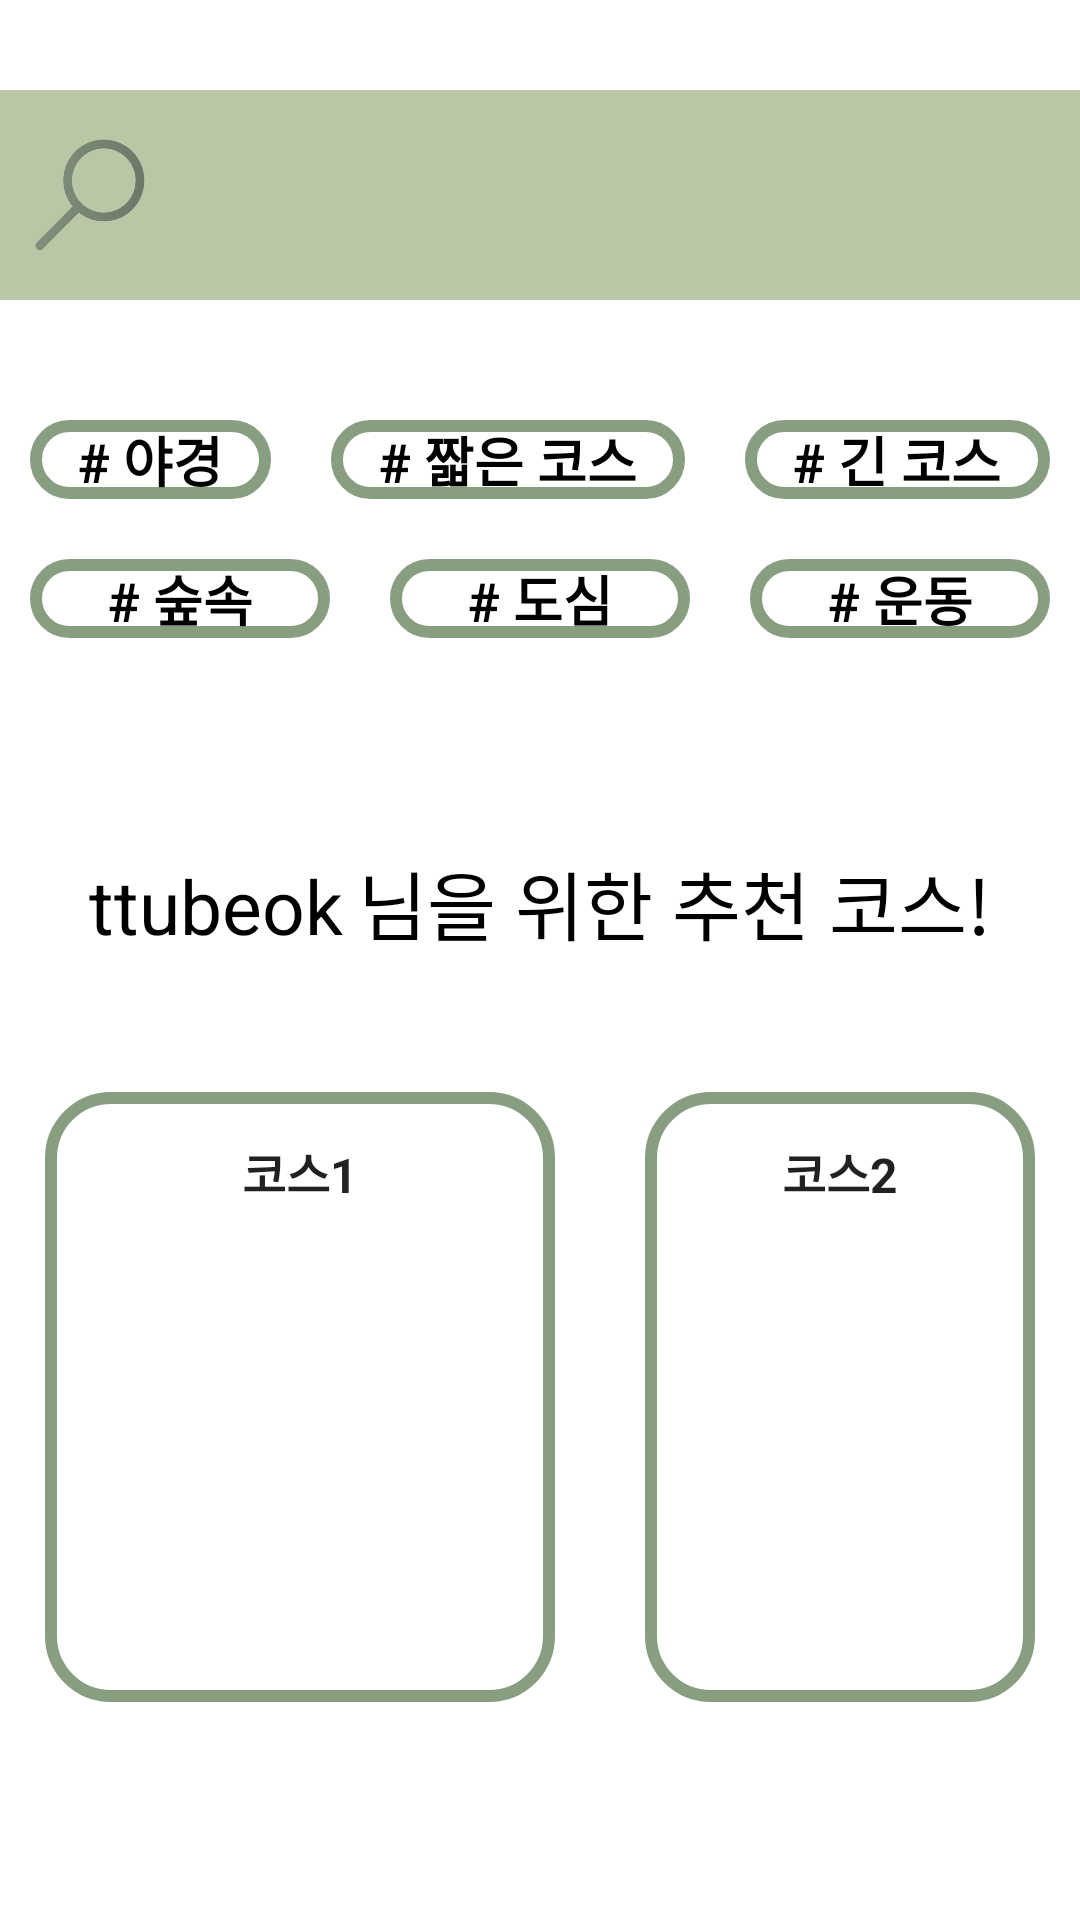

Icons on this 1080px×1920px Android screen, each with its box as (x1, y1, x2, y2):
search: (35, 140, 144, 250)
